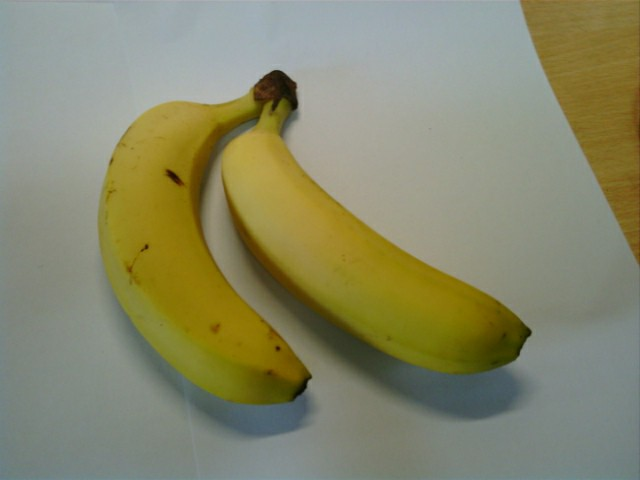fresh_banana: (222, 131, 526, 371)
normal_banana: (102, 97, 306, 403)
